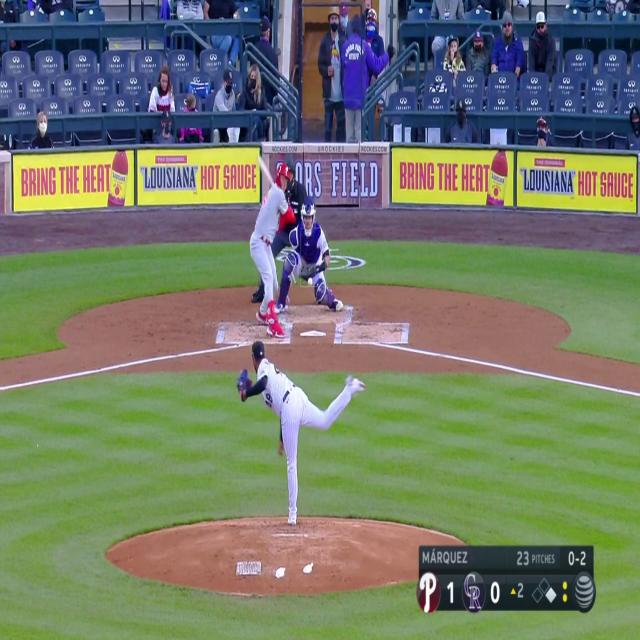baseball: (307, 276, 314, 286)
